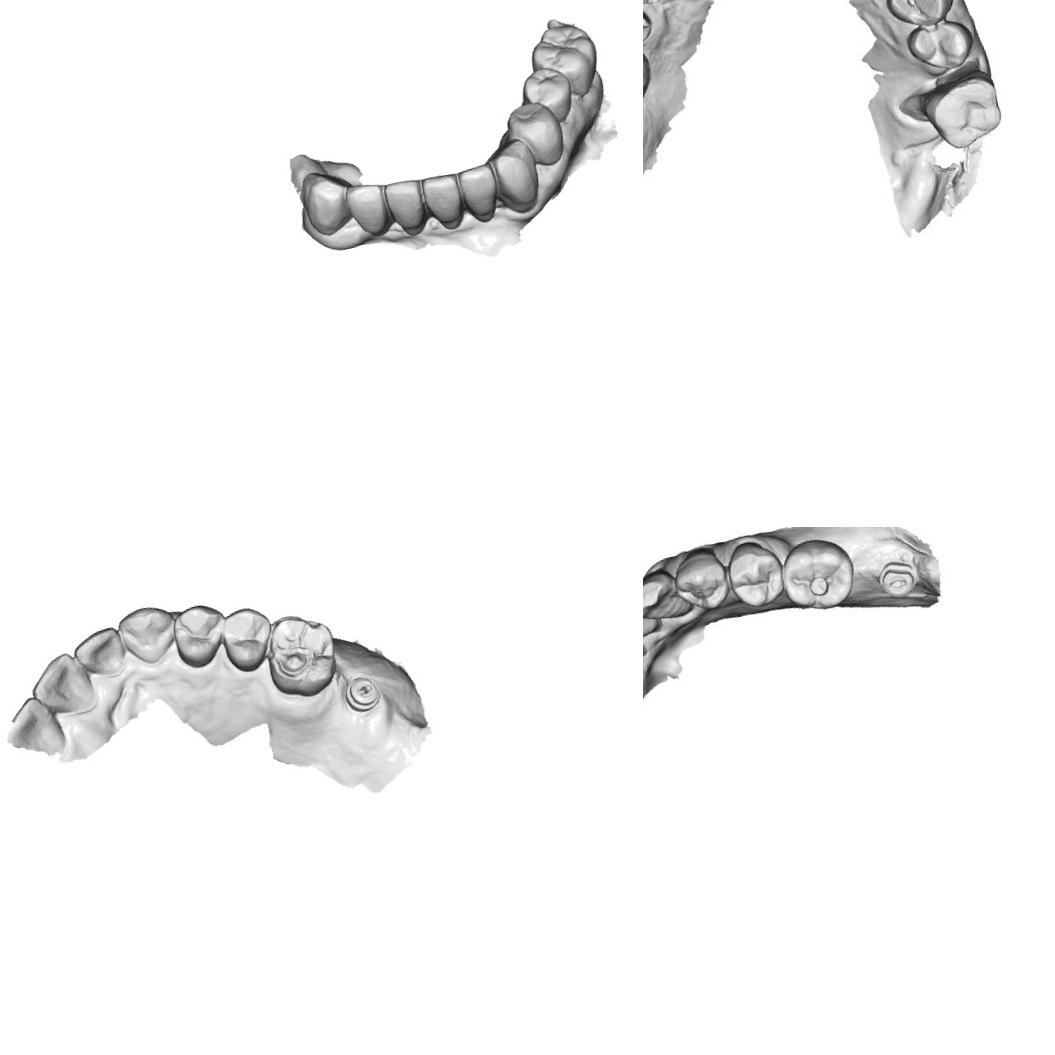canine: (484, 135, 547, 220), (112, 599, 183, 672), (295, 163, 360, 241), (643, 564, 697, 635)
implant_minus: (872, 554, 925, 599), (340, 671, 384, 718)
incisor: (24, 646, 102, 724), (0, 690, 71, 770), (69, 623, 131, 684), (340, 176, 394, 241), (418, 166, 472, 230), (378, 174, 432, 234), (454, 158, 504, 222), (643, 596, 655, 646)
molar: (258, 606, 346, 704), (920, 72, 1016, 158), (522, 14, 608, 109), (780, 534, 861, 620)
premolar: (166, 597, 236, 674), (502, 96, 569, 174), (725, 540, 792, 616), (216, 600, 282, 676), (517, 62, 580, 132), (906, 10, 975, 72), (674, 548, 728, 612), (883, 0, 956, 37)
